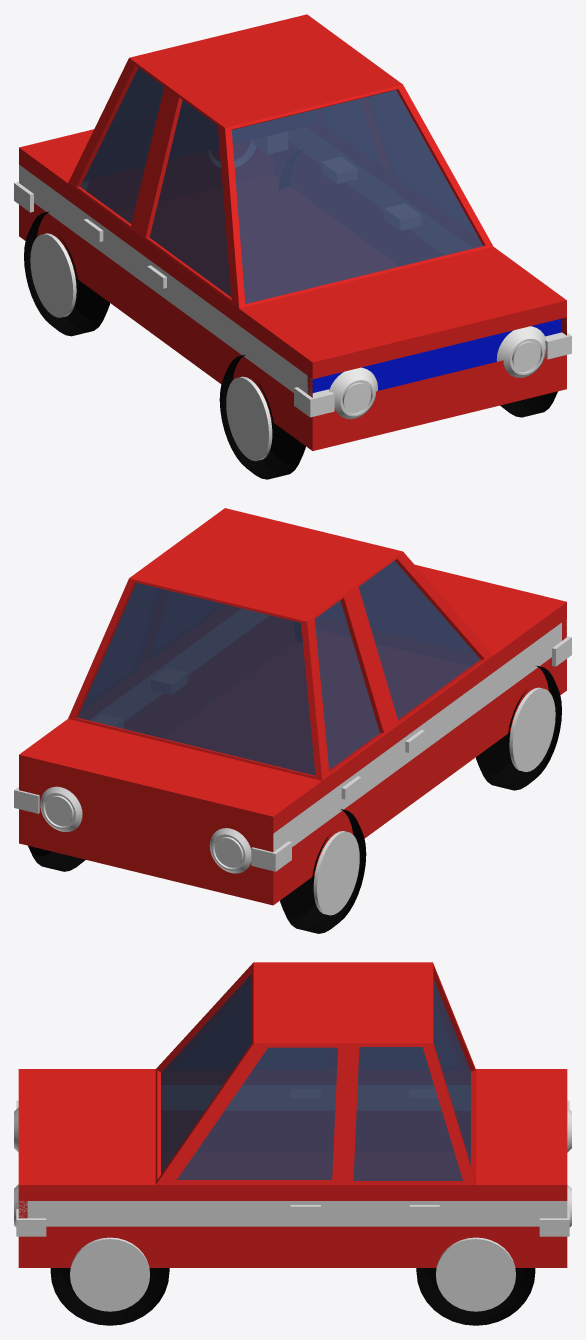
Rendered from Car1.fbx.
3 renders of one model, top to bottom at view 1: azimuth 30°, elevation 25°; view 2: azimuth 150°, elevation 25°; view 3: azimuth 270°, elevation 25°, orthographic. The views are drawn at different scales.
Parts seen in each view (by area): view 1: Cube, 円, 円.001, 円.002, 立方体; view 2: Cube, 円, 円.001, 円.002, 立方体; view 3: Cube, 円.001, 円, 立方体, 円.002.
Boxes of the visible parts, x1,y1,x2,y2 form: Cube: [19, 14, 566, 450]; 円: [24, 211, 557, 479]; 円.001: [30, 233, 272, 461]; 円.002: [329, 326, 545, 419]; 立方体: [14, 182, 571, 417]; Cube: [19, 508, 566, 905]; 円: [28, 665, 561, 933]; 円.001: [313, 687, 555, 915]; 円.002: [40, 786, 251, 873]; 立方体: [14, 636, 571, 871]; Cube: [18, 962, 567, 1267]; 円.001: [70, 1237, 515, 1311]; 円: [50, 1268, 535, 1325]; 立方体: [16, 1100, 569, 1236]; 円.002: [14, 1107, 571, 1227].
Bounding box in the file's own units: 340 × 315 × 610.
